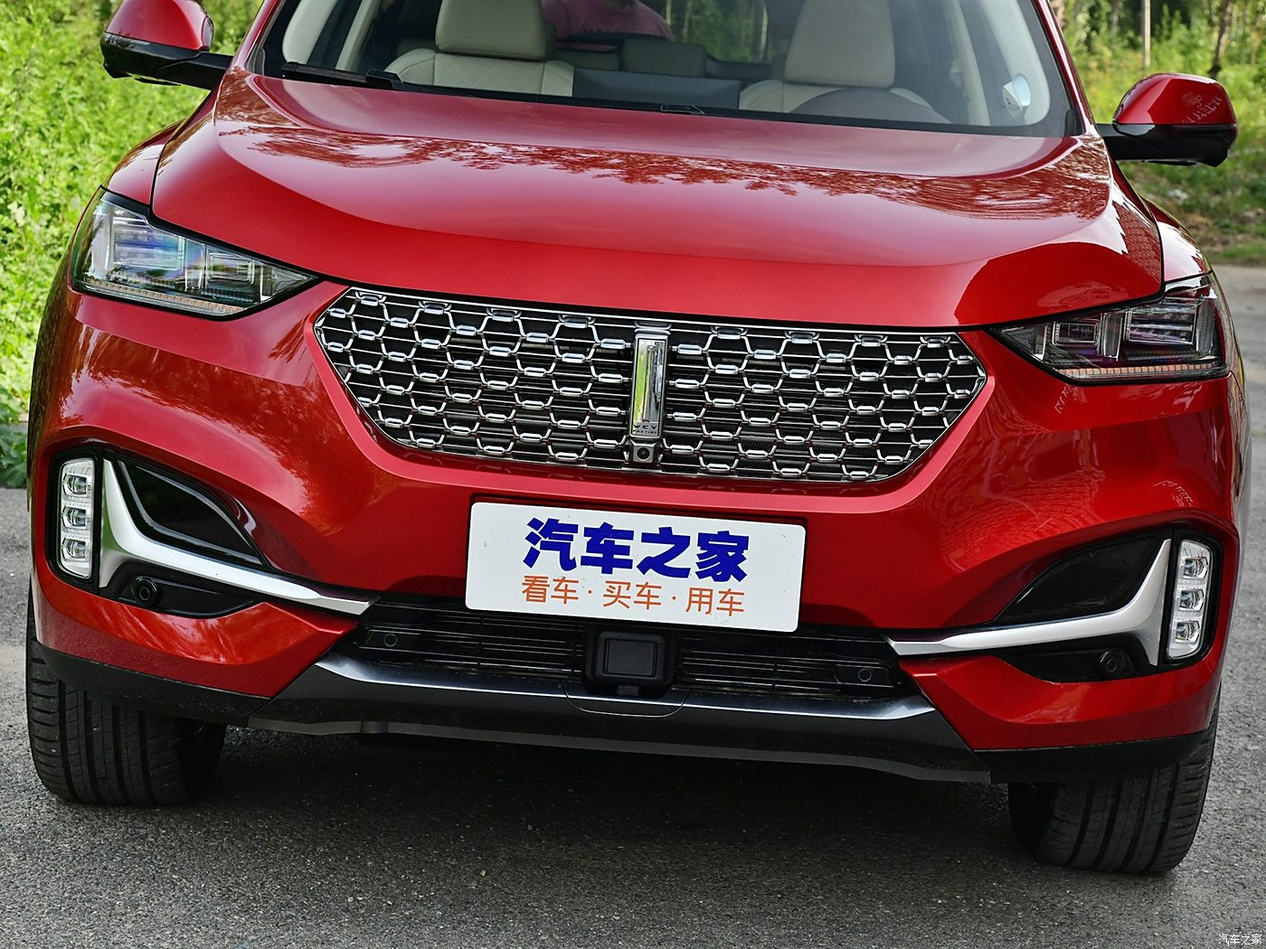WEY: (632, 339, 665, 437)
